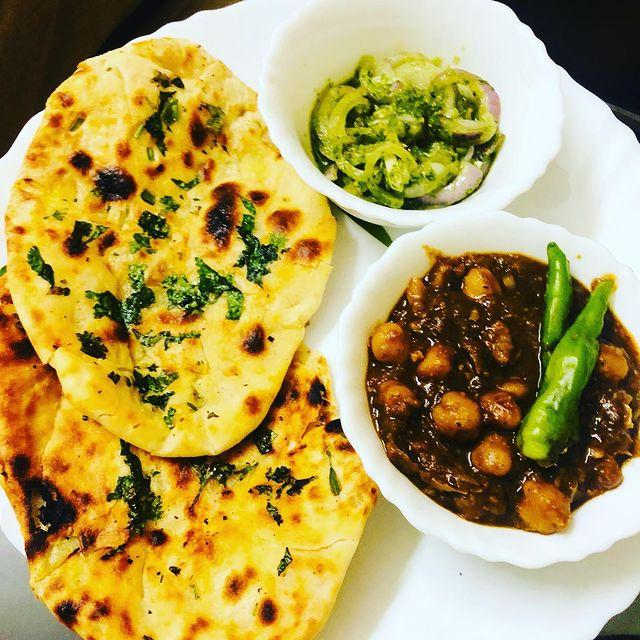Chole: (373, 266, 536, 507)
